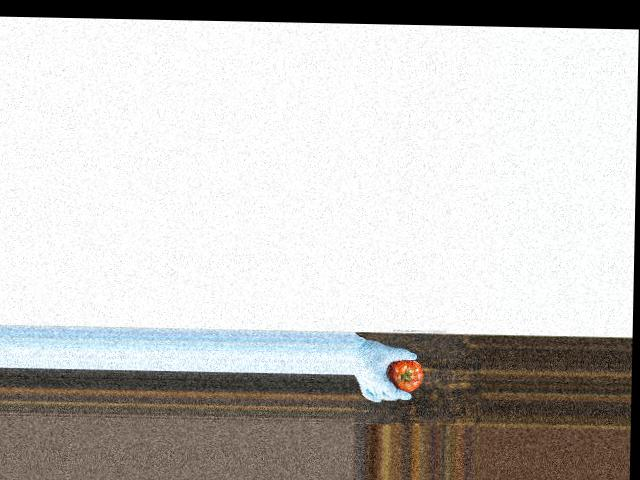tomato: (388, 359, 424, 392)
